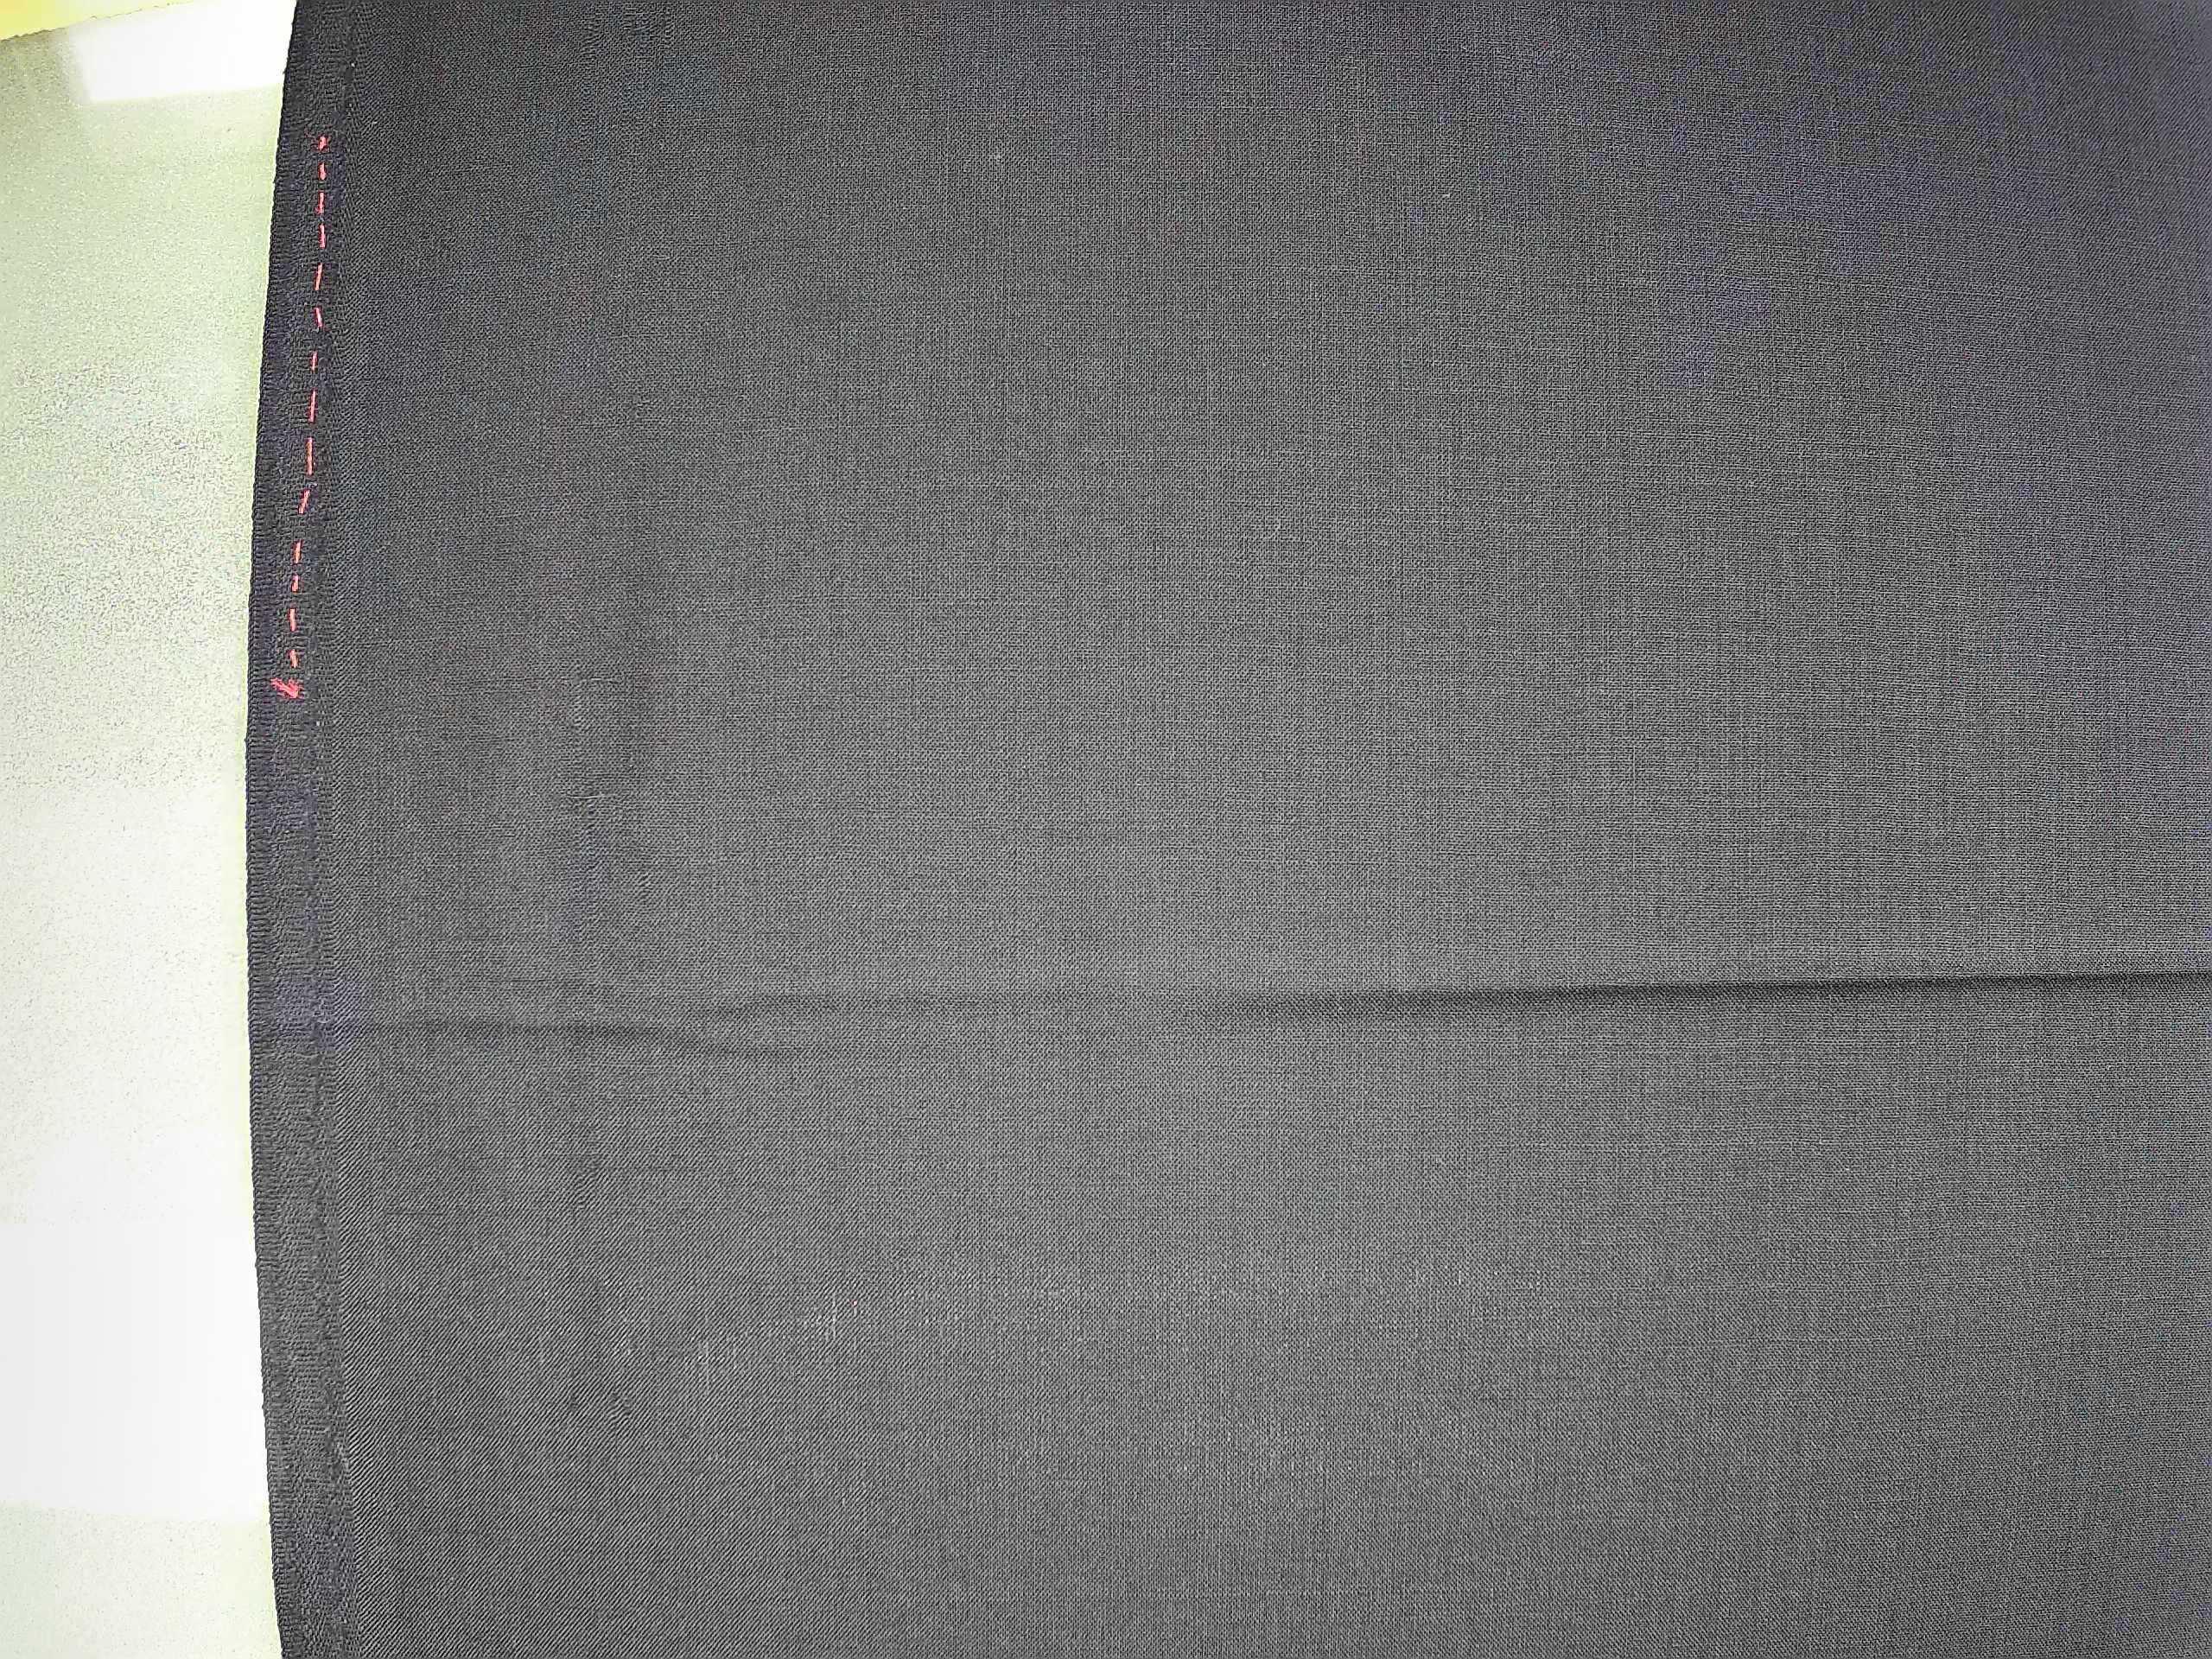hanging-warp: (561, 641, 655, 1213)
